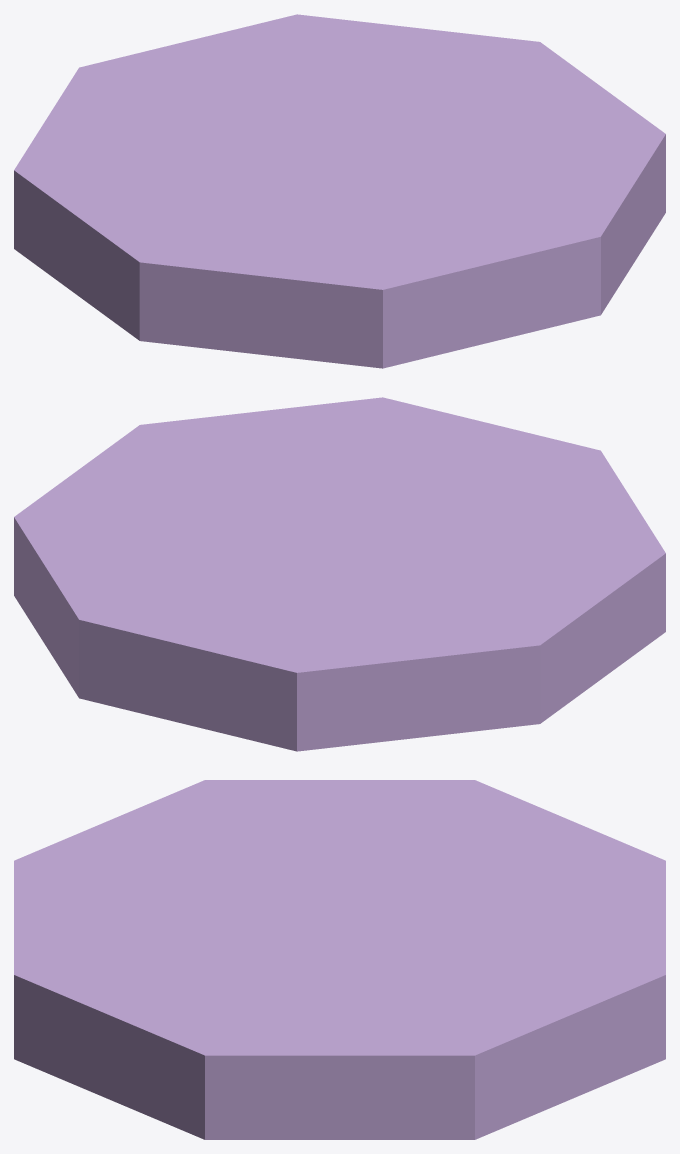
Rendered from onion_slice.gltf.
The picture shows the model from 3 angles, top to bottom: view 1: azimuth 30°, elevation 25°; view 2: azimuth 150°, elevation 25°; view 3: azimuth 270°, elevation 25°; orthographic projection. The views are drawn at different scales.
Visible parts, largest first — view 1: cylinder; view 2: cylinder; view 3: cylinder.
Part boxes in pixels (x1,y1,x2,y2): cylinder: [14, 14, 665, 368]; cylinder: [14, 397, 665, 751]; cylinder: [14, 780, 665, 1139].
Size of the model in its own units: 0.4375 by 0.0625 by 0.4375.
1 material, 1 textured.
